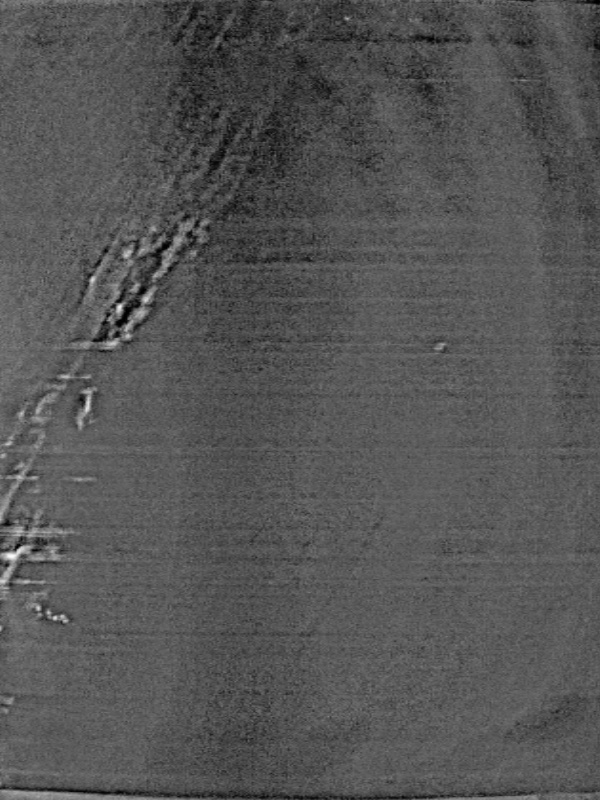splice_vulcanized: (1, 1, 305, 625)
